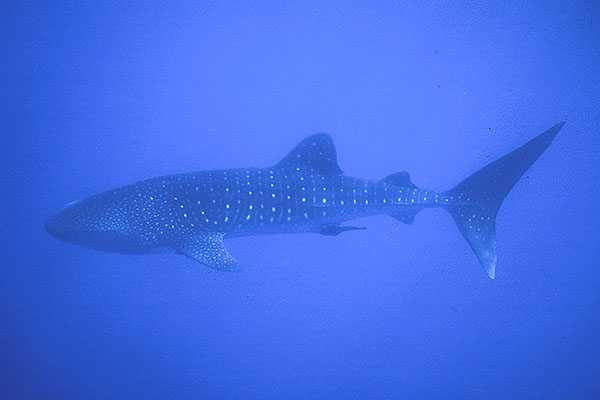Rhincodon_typusw: (37, 92, 561, 298)
